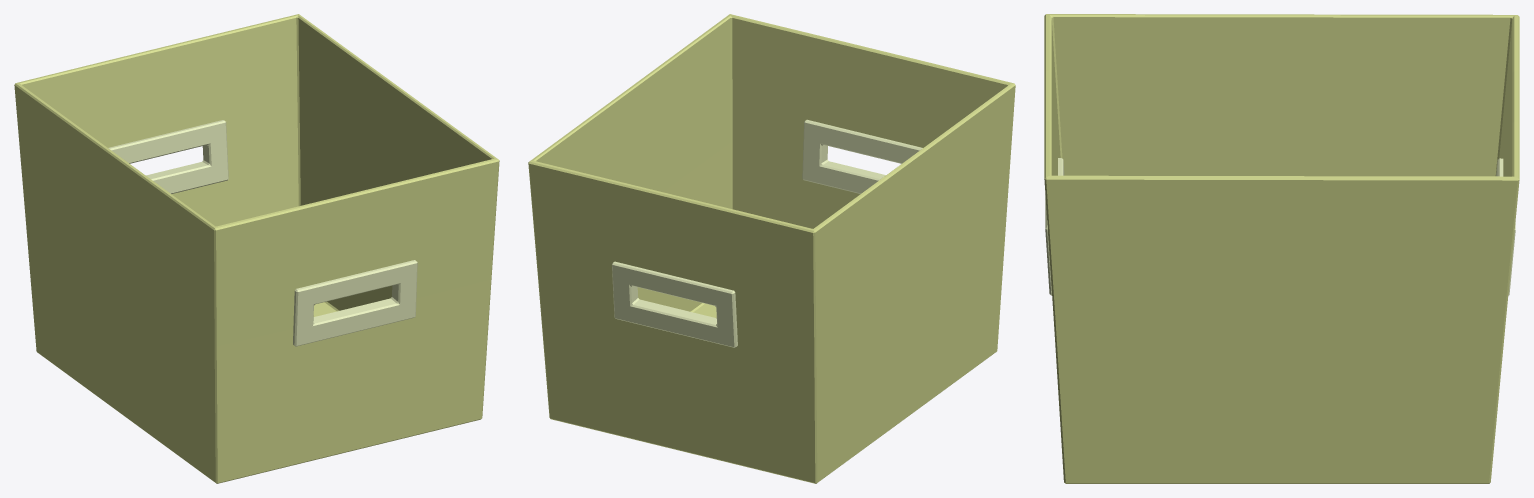
3 renders of one model, left to right at view 1: azimuth 30°, elevation 25°; view 2: azimuth 150°, elevation 25°; view 3: azimuth 270°, elevation 25°, orthographic. The views are drawn at different scales.
Visible parts, largest first — view 1: file_box_4; view 2: file_box_4; view 3: file_box_4.
Boxes of the visible parts, x1,y1,x2,y2 form: file_box_4: [14, 14, 499, 483]; file_box_4: [528, 14, 1015, 483]; file_box_4: [1044, 14, 1519, 483].
Size of the model in its own units: 0.2852 by 0.2522 by 0.3479.
